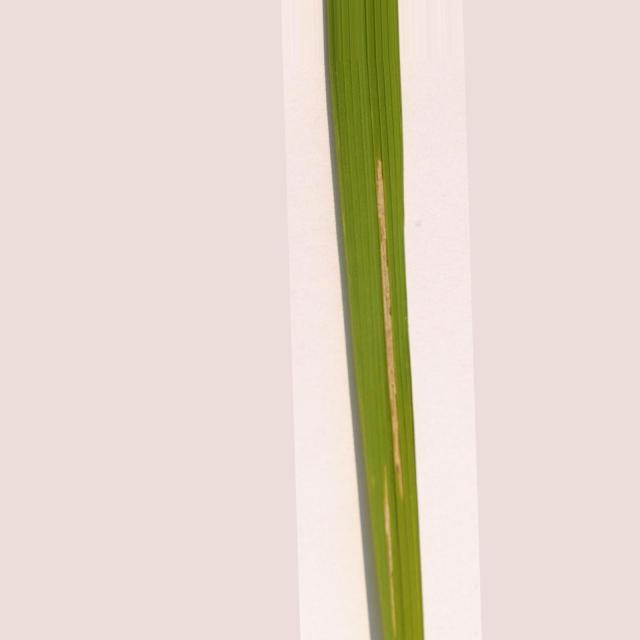Bacterial_Leaf_Blight: (376, 160, 402, 496), (384, 468, 396, 633)
